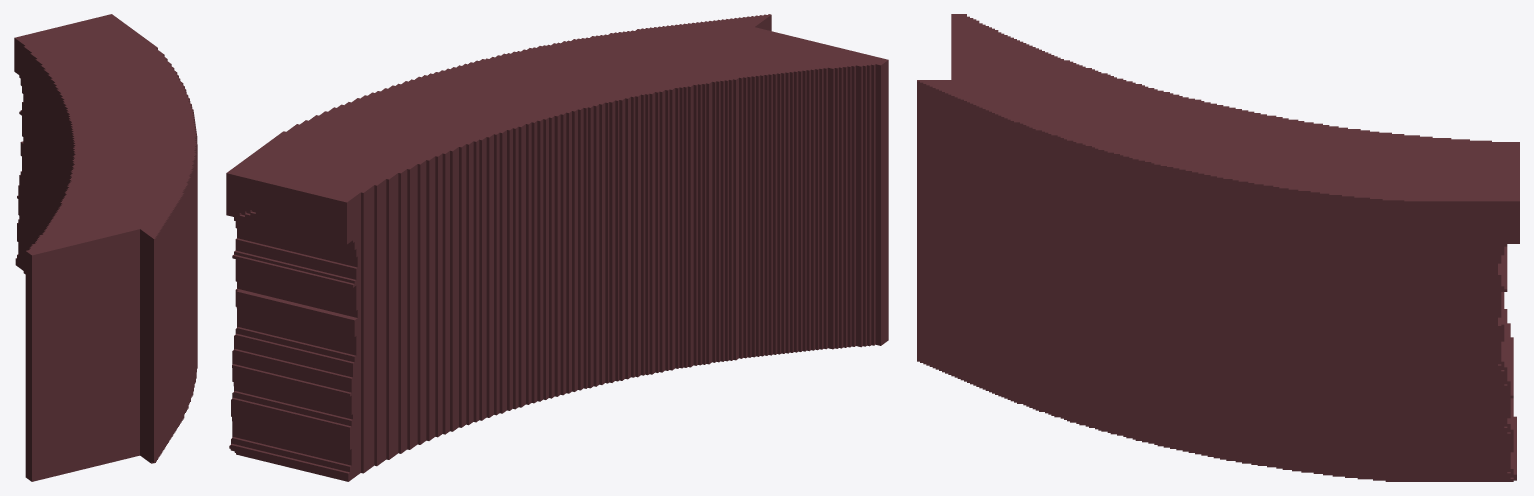
Rendered from base_with_flag_elements-8.obj.
The picture shows the model from 3 angles, left to right: view 1: azimuth 30°, elevation 25°; view 2: azimuth 150°, elevation 25°; view 3: azimuth 270°, elevation 25°; orthographic projection. The views are drawn at different scales.
Size of the model in its own units: 14.2 by 10 by 19.3.
Materials: 1 (1 with a texture image).
